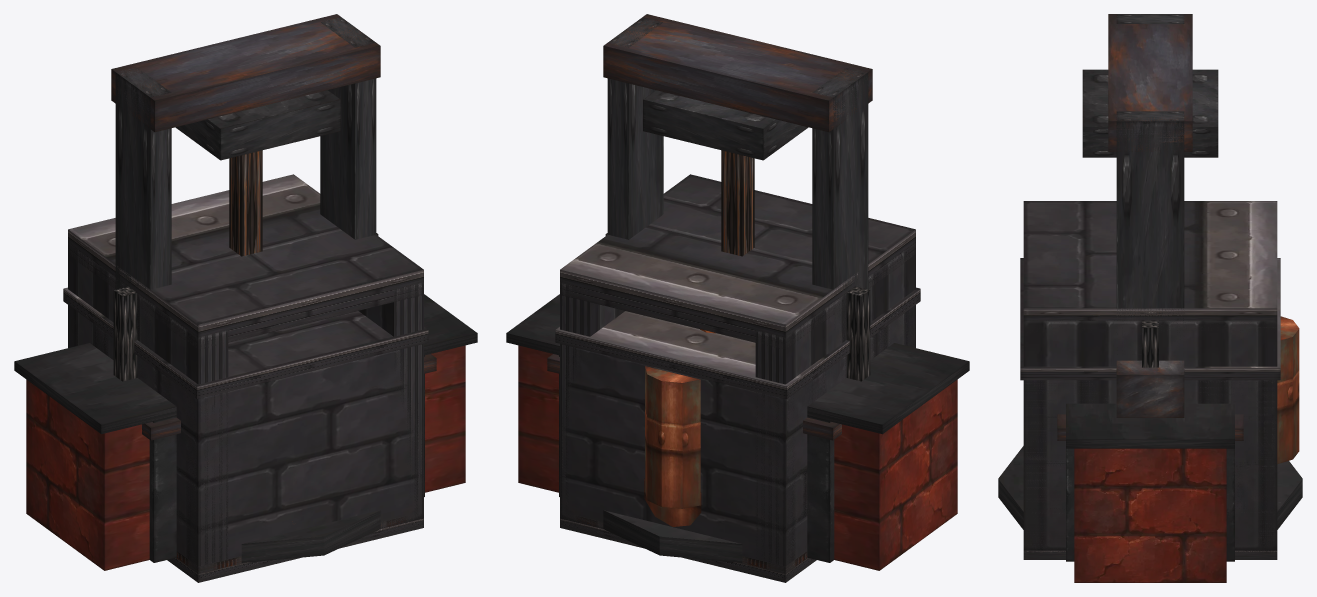
The model's file is kit.glb.
3 views of the same model, side by side, from view 1: azimuth 30°, elevation 25°; view 2: azimuth 150°, elevation 25°; view 3: azimuth 270°, elevation 25° (orthographic). The views are drawn at different scales.
Parts seen in each view (by area): view 1: wall_0, door_boss_frame, trap_stamper, supply_counter, chain_hang, codex_table, data_pad, quench_tank, floor_0, trap_vent; view 2: door_boss_frame, wall_0, trap_stamper, supply_counter, chain_hang, pipe_elbow, codex_table, data_pad, quench_tank, floor_0, trap_vent; view 3: door_boss_frame, supply_counter, trap_stamper, wall_0, chain_hang, pipe_elbow, codex_table, data_pad, quench_tank, floor_0.
Part boxes in pixels (<box>): wall_0: <box>63,287,428,566</box>; door_boss_frame: <box>68,174,423,579</box>; trap_stamper: <box>111,14,380,382</box>; supply_counter: <box>14,294,477,570</box>; chain_hang: <box>175,90,340,256</box>; codex_table: <box>113,233,424,562</box>; data_pad: <box>241,510,380,562</box>; quench_tank: <box>142,354,436,562</box>; floor_0: <box>167,519,423,582</box>; trap_vent: <box>176,514,417,574</box>; door_boss_frame: <box>560,174,915,579</box>; wall_0: <box>555,287,920,565</box>; trap_stamper: <box>603,14,872,378</box>; supply_counter: <box>506,294,969,570</box>; chain_hang: <box>643,90,808,256</box>; pipe_elbow: <box>644,366,701,526</box>; codex_table: <box>559,233,870,562</box>; data_pad: <box>603,510,742,562</box>; quench_tank: <box>547,354,841,562</box>; floor_0: <box>560,519,816,582</box>; trap_vent: <box>564,513,807,574</box>; door_boss_frame: <box>1023,201,1277,552</box>; supply_counter: <box>1066,360,1234,582</box>; trap_stamper: <box>1108,14,1192,354</box>; wall_0: <box>1020,258,1280,550</box>; chain_hang: <box>1082,69,1218,157</box>; pipe_elbow: <box>1277,316,1299,464</box>; codex_table: <box>1066,320,1234,561</box>; data_pad: <box>998,446,1302,529</box>; quench_tank: <box>1057,414,1243,561</box>; floor_0: <box>1023,550,1277,559</box>.
Size of the model in its own units: 2.5 by 2.9 by 1.8.
3 materials, 3 textured.
